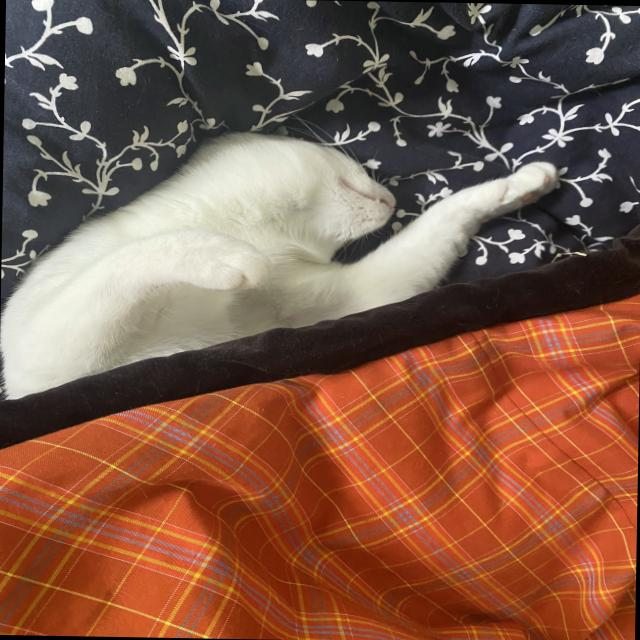cat1: (0, 114, 576, 415)
